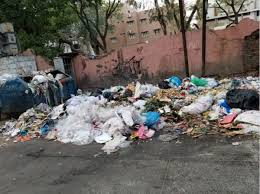garbage: (40, 97, 260, 145), (94, 82, 260, 137), (8, 114, 172, 134), (26, 73, 69, 89)
